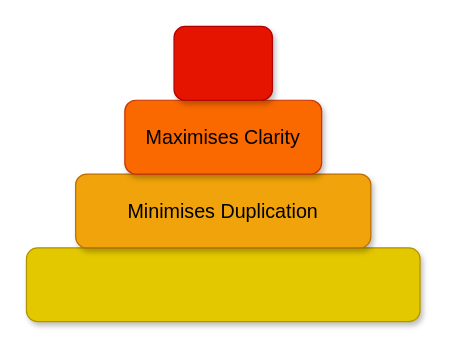
Image size: 449x352. Some labels were removed from this diagram. The shapes that lost their labels are listed below. From the top down, each one's centre as x and y in pixels, then its label:
[224,64]: Has Fewer Elements
[223,286]: Behaves Correctly
